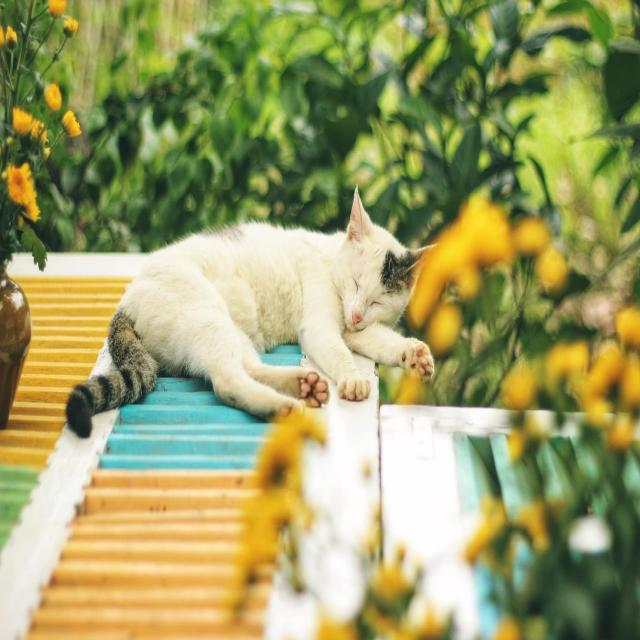cat: (61, 188, 438, 432)
